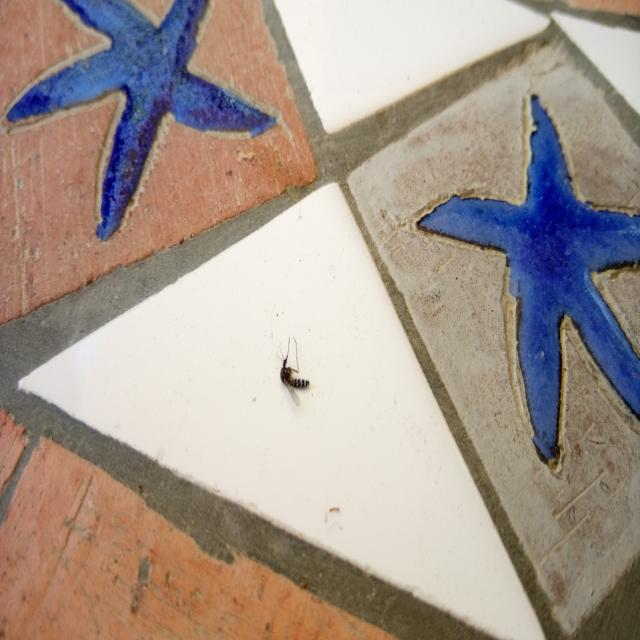albopictus: (272, 328, 312, 399)
